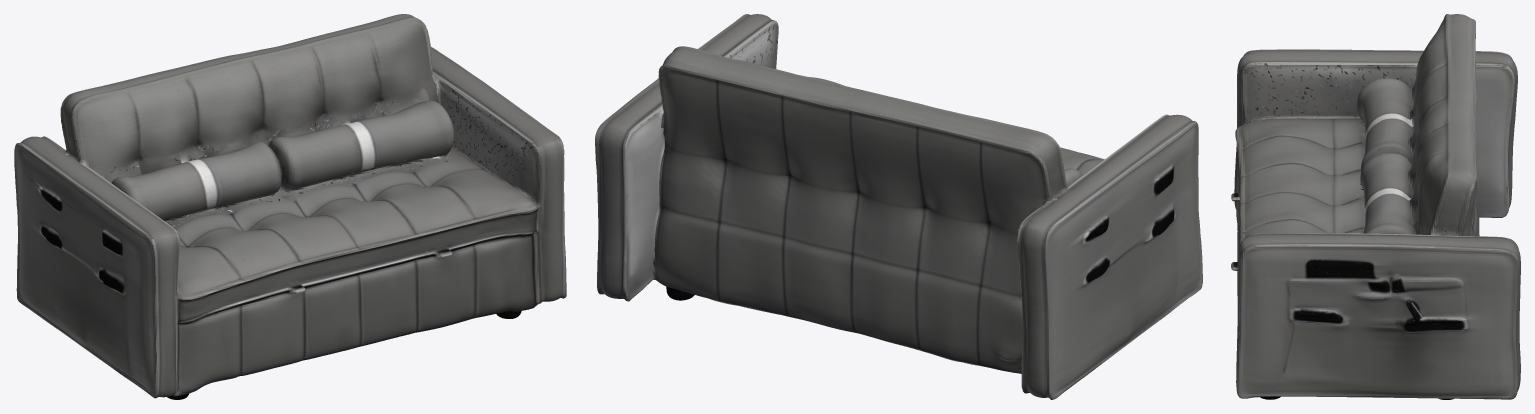
File: gray_sofa.glb
3 renders of one model, left to right at view 1: azimuth 30°, elevation 25°; view 2: azimuth 150°, elevation 25°; view 3: azimuth 270°, elevation 25°, orthographic. The views are drawn at different scales.
Visible parts, largest first — view 1: geometry_0; view 2: geometry_0; view 3: geometry_0.
Part boxes in pixels (x1,y1,x2,y2): geometry_0: (14,14,566,399); geometry_0: (595,14,1202,399); geometry_0: (1231,14,1520,399).
Bounding box in the file's own units: 1.98 × 1.02 × 1.19.
1 material, 1 textured.
